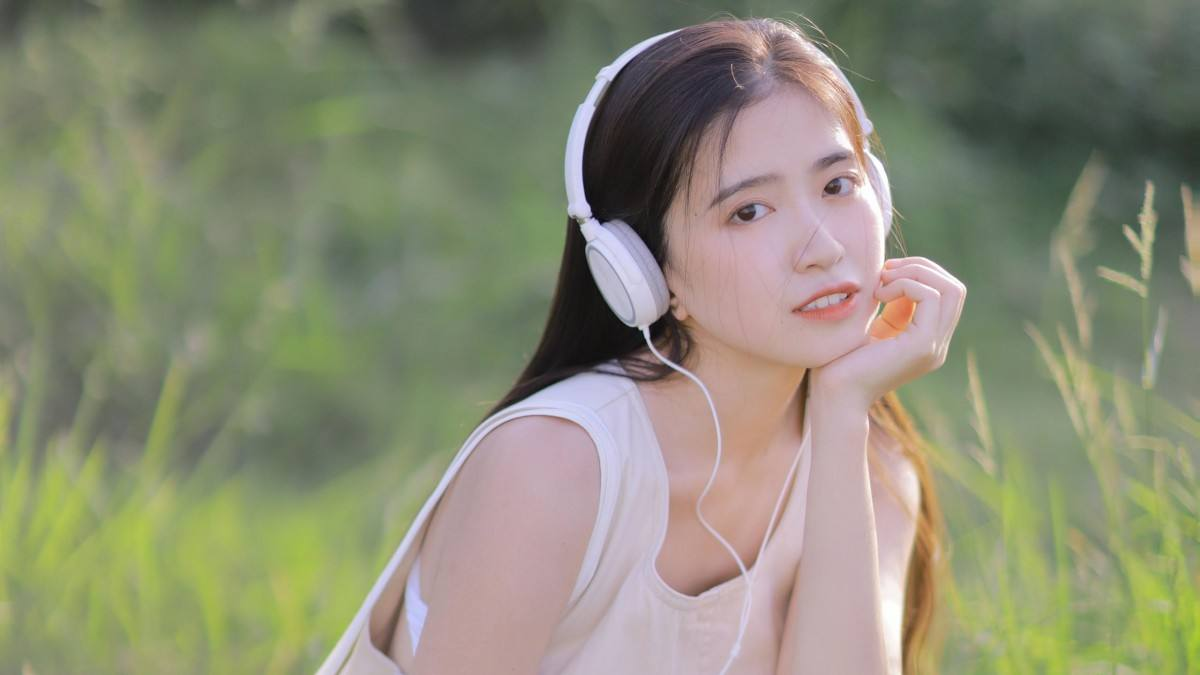person: (482, 44, 992, 646)
